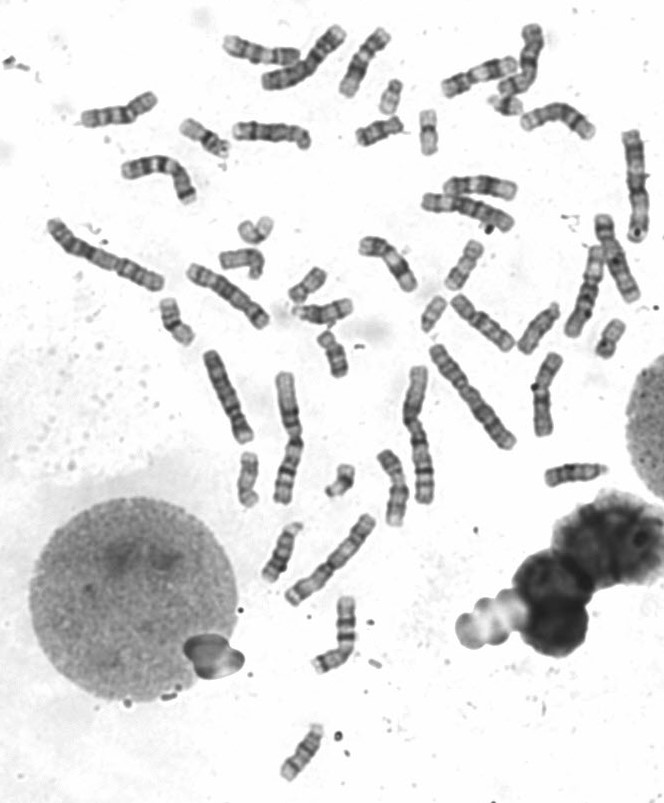chromosomes: (425, 338, 523, 455), (45, 212, 169, 299), (282, 509, 383, 609), (180, 256, 276, 336), (394, 364, 446, 510), (259, 17, 350, 96), (194, 345, 262, 448), (612, 125, 662, 252), (270, 366, 313, 510), (588, 209, 645, 309), (113, 148, 202, 210), (560, 242, 612, 343), (334, 21, 398, 102), (307, 592, 362, 684), (435, 49, 524, 103), (353, 228, 422, 297), (417, 189, 518, 235), (451, 292, 517, 362), (496, 15, 552, 96), (76, 86, 162, 138), (526, 351, 575, 442), (515, 100, 605, 148), (275, 714, 335, 785), (368, 443, 413, 536), (258, 517, 310, 589), (218, 32, 305, 71), (511, 298, 562, 363), (175, 115, 237, 168), (441, 170, 527, 205), (288, 290, 363, 330), (230, 120, 318, 154), (440, 236, 490, 295), (311, 325, 353, 387), (155, 291, 198, 351), (284, 261, 333, 308), (351, 112, 408, 152), (590, 312, 632, 365), (216, 241, 270, 282), (234, 208, 283, 252), (232, 447, 263, 516), (542, 458, 613, 488), (372, 72, 410, 123), (320, 457, 362, 503), (418, 289, 453, 340), (415, 103, 445, 161), (480, 91, 533, 122)
